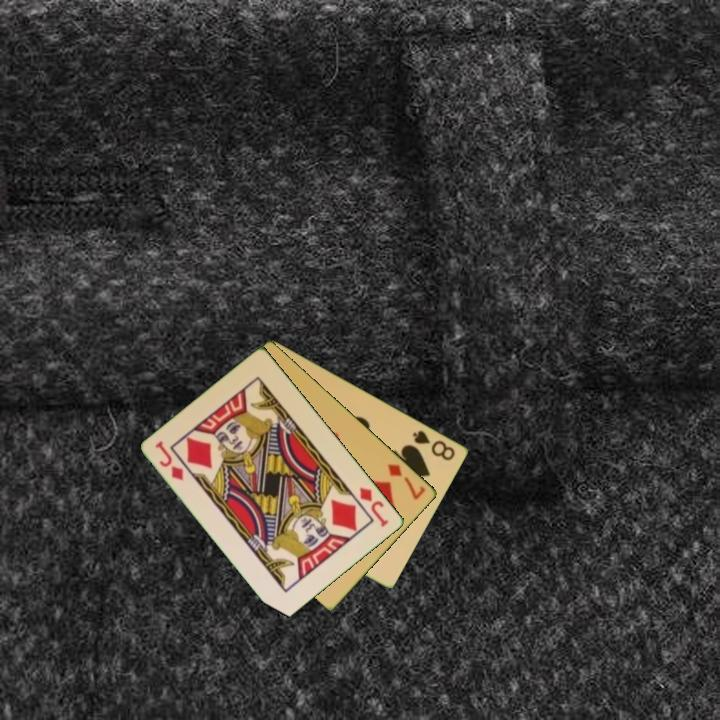7d: (384, 460, 429, 503)
8s: (409, 427, 458, 463)
Jd: (356, 484, 392, 530), (152, 437, 187, 484)
